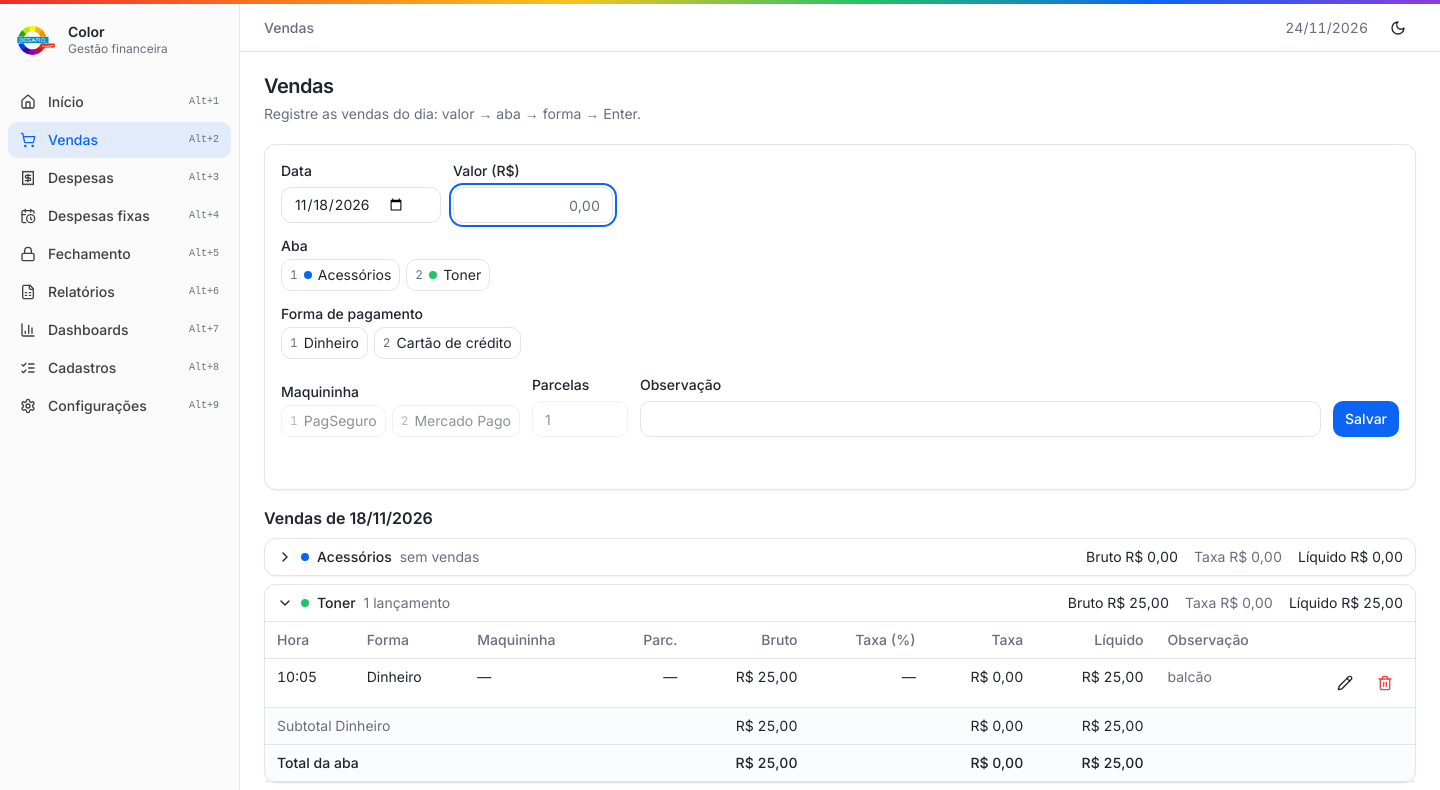
Test case: Vendas: the day per tab (FR-05) › FR-03: Editar loads the sale into the form and saves the change
The image size is (1440, 790).
Expected: the radio button labelled "2 Toner" is shown, [406, 259, 490, 291]
Expected: the date field labelled "Data" holds "2026-11-18", [281, 187, 441, 223]
Click the button named "Editar venda".
click(1345, 682)  # box [1327, 666, 1363, 698]
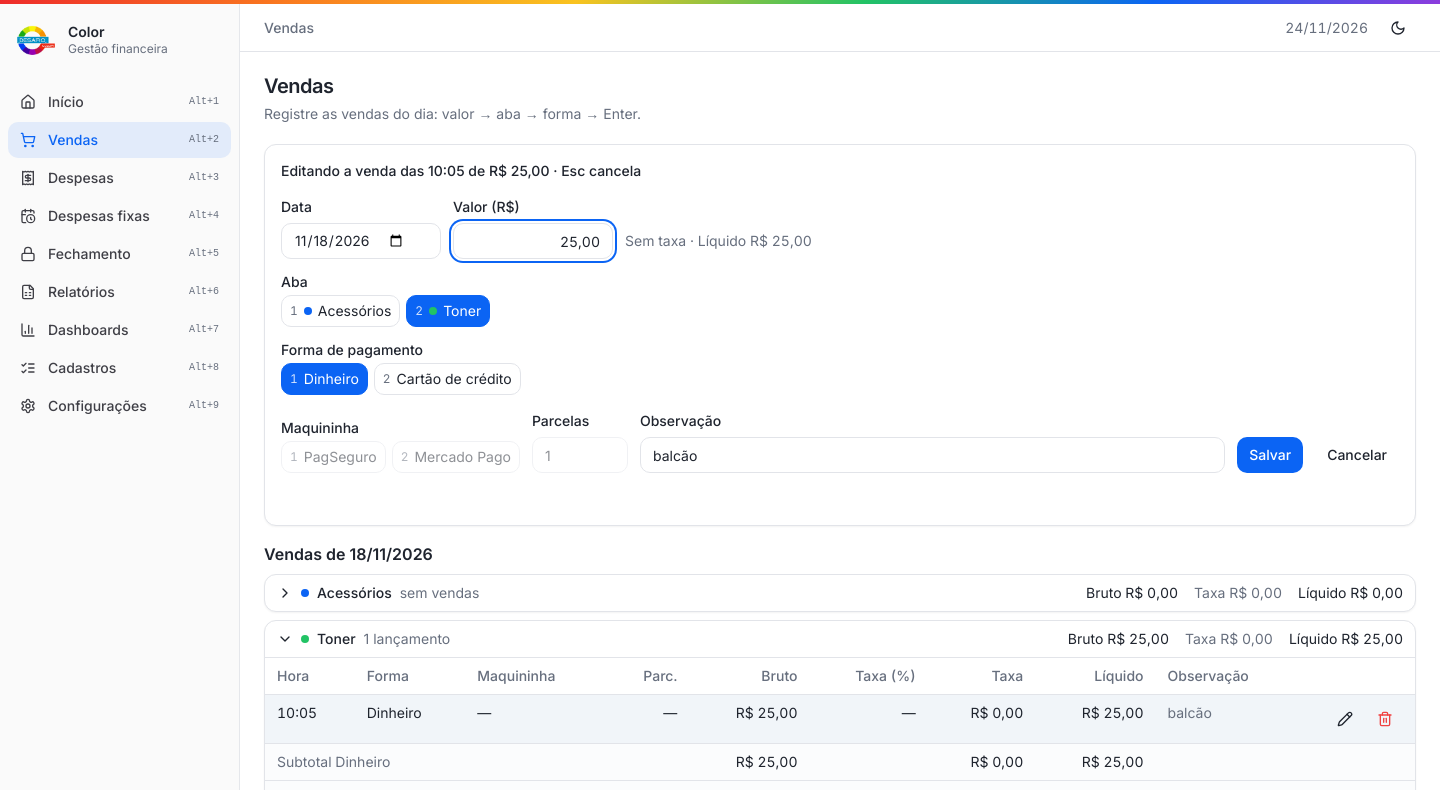
Now the form named "Editar venda" is shown, box [281, 161, 1399, 509]
Now the field labelled "Valor (R$)" holds "25,00"
Now the field labelled "Observação" holds "balcão", box [640, 437, 1225, 473]
Replace the text in the field labelled "Valor (R$)" with "30" at coordinates (533, 241), box [453, 223, 613, 259]
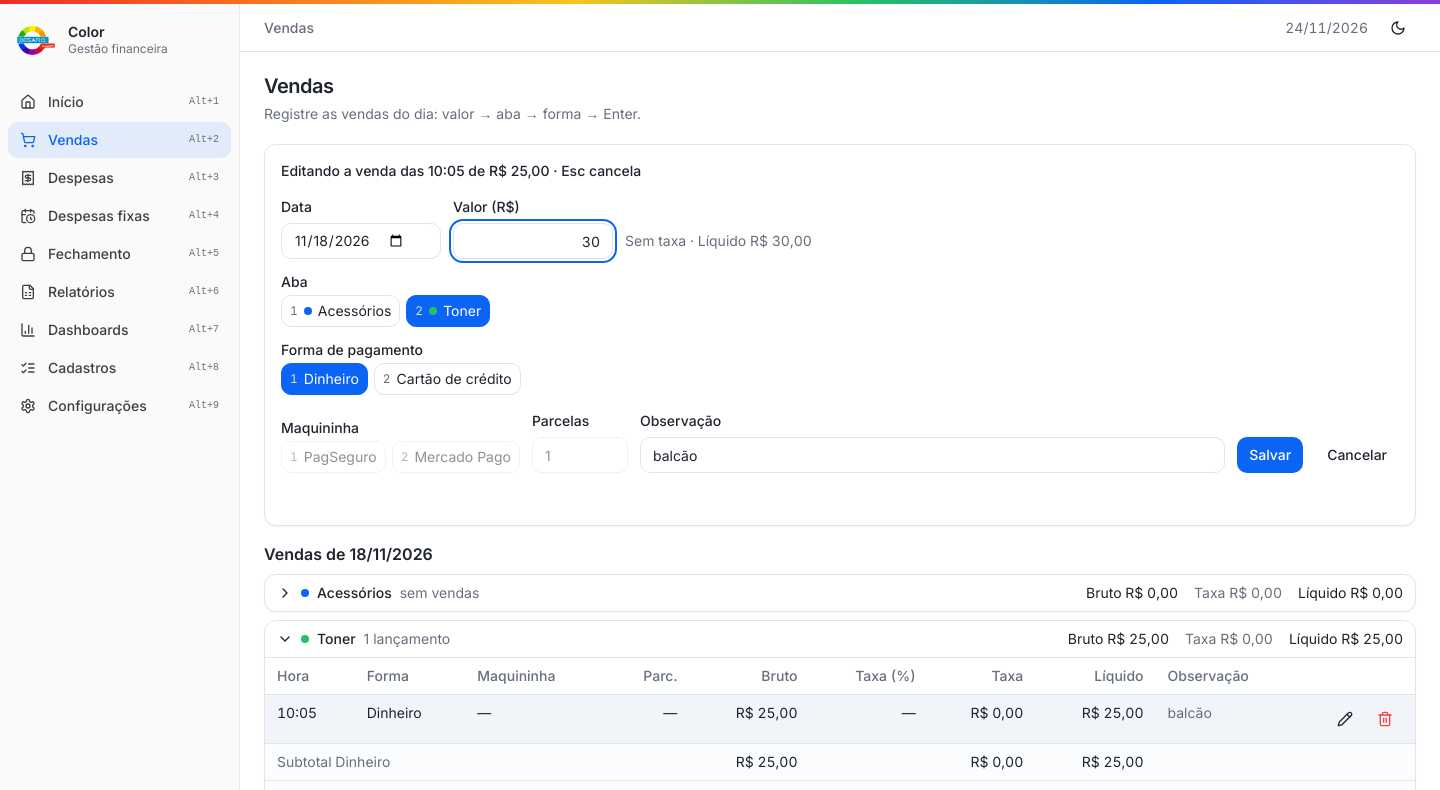
Submit the form named "Editar venda", box [281, 161, 1399, 509]
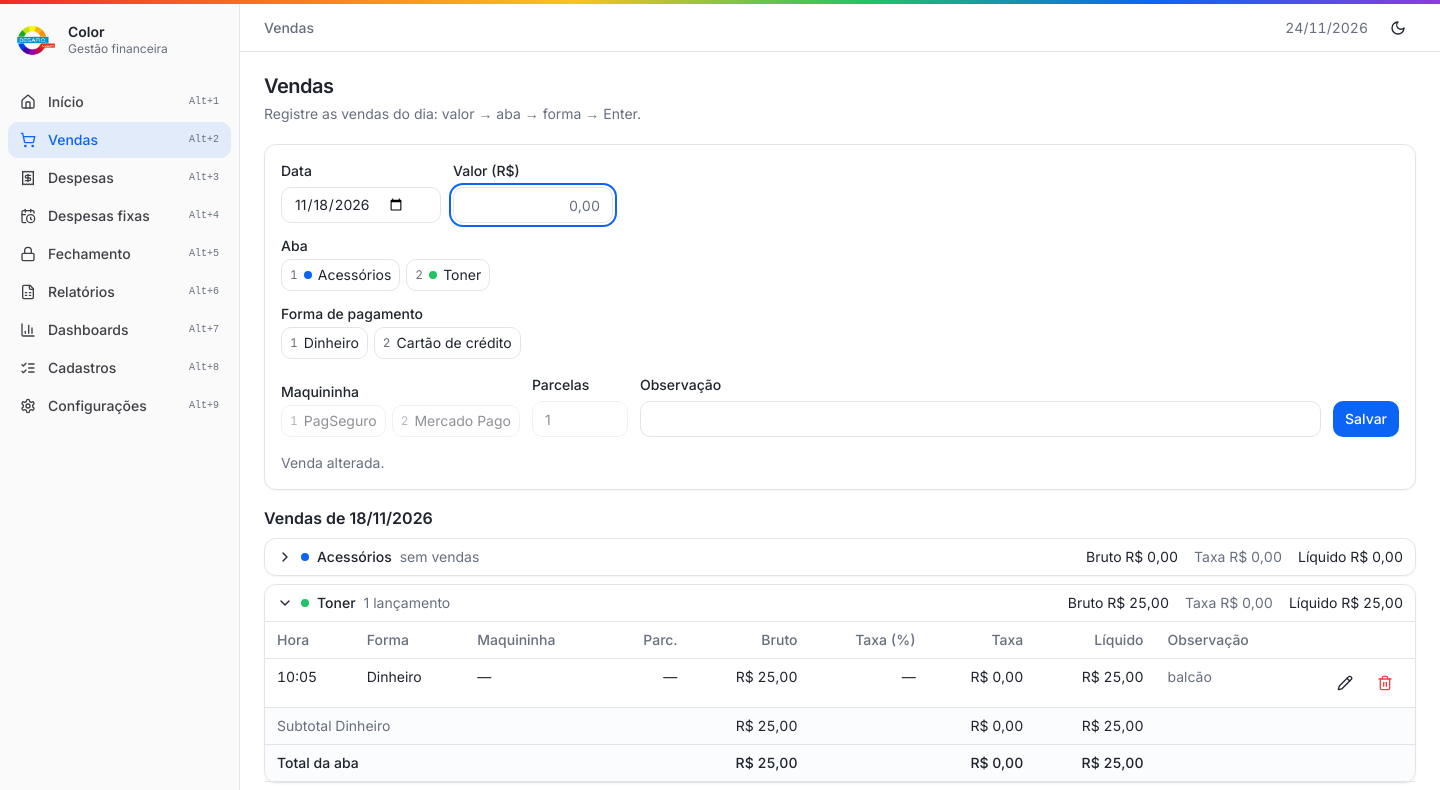
Now the text "Venda alterada." is shown, box [281, 454, 384, 471]
Now the form named "Nova venda" is shown, box [281, 161, 1399, 473]
Now the field labelled "Valor (R$)" is empty, box [453, 187, 613, 223]
